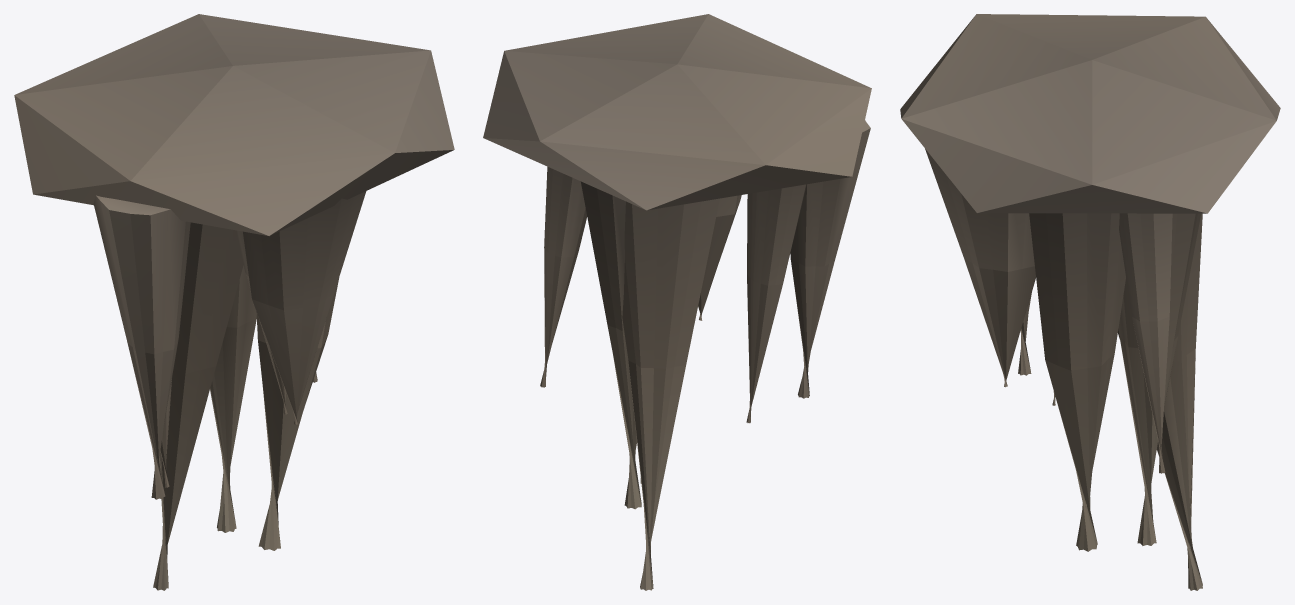
The model's file is stalactite_cluster_b.10d51507.glb.
The picture shows the model from 3 angles, left to right: view 1: azimuth 30°, elevation 25°; view 2: azimuth 150°, elevation 25°; view 3: azimuth 270°, elevation 25°; orthographic projection. The views are drawn at different scales.
Visible parts, largest first — view 1: stalactite_cluster_b; view 2: stalactite_cluster_b; view 3: stalactite_cluster_b.
Part boxes in pixels (bbox=[...]): stalactite_cluster_b: bbox=[14, 14, 454, 590]; stalactite_cluster_b: bbox=[483, 14, 871, 590]; stalactite_cluster_b: bbox=[900, 14, 1280, 590].
Bounding box in the file's own units: 1.06 × 1.41 × 0.9055.
